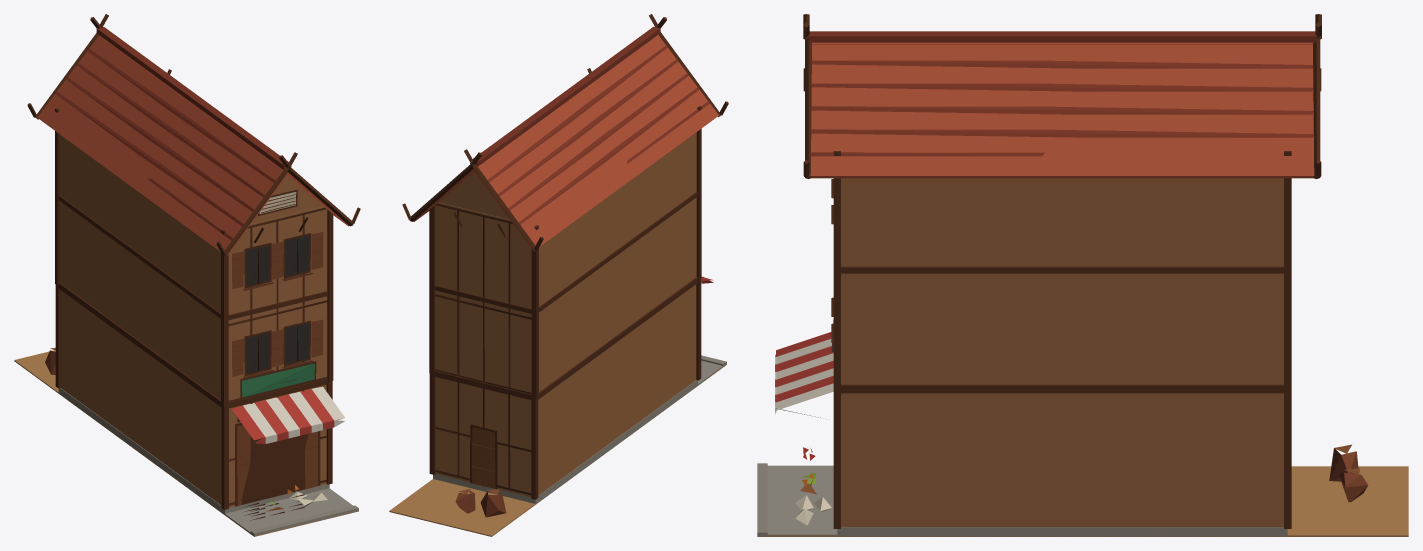
Rendered from bay2_mid2.glb.
3 renders of one model, left to right at view 1: azimuth 30°, elevation 25°; view 2: azimuth 150°, elevation 25°; view 3: azimuth 270°, elevation 25°, orthographic. The views are drawn at different scales.
Visible parts, largest first — view 1: body, windows; view 2: body; view 3: body.
Part boxes in pixels (x1,y1,x2,y2): body: (14, 14, 360, 536); windows: (246, 235, 309, 373); body: (389, 14, 728, 536); body: (757, 14, 1408, 536).
Size of the model in its own units: 5.52 by 13.06 by 15.9.
